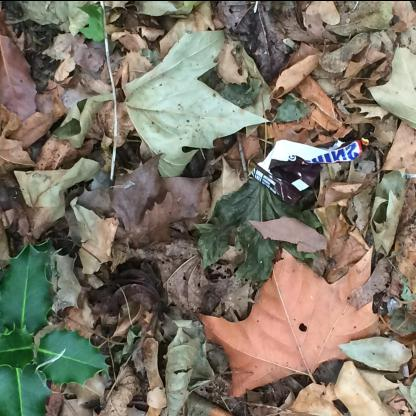plastik: (249, 134, 372, 211)
